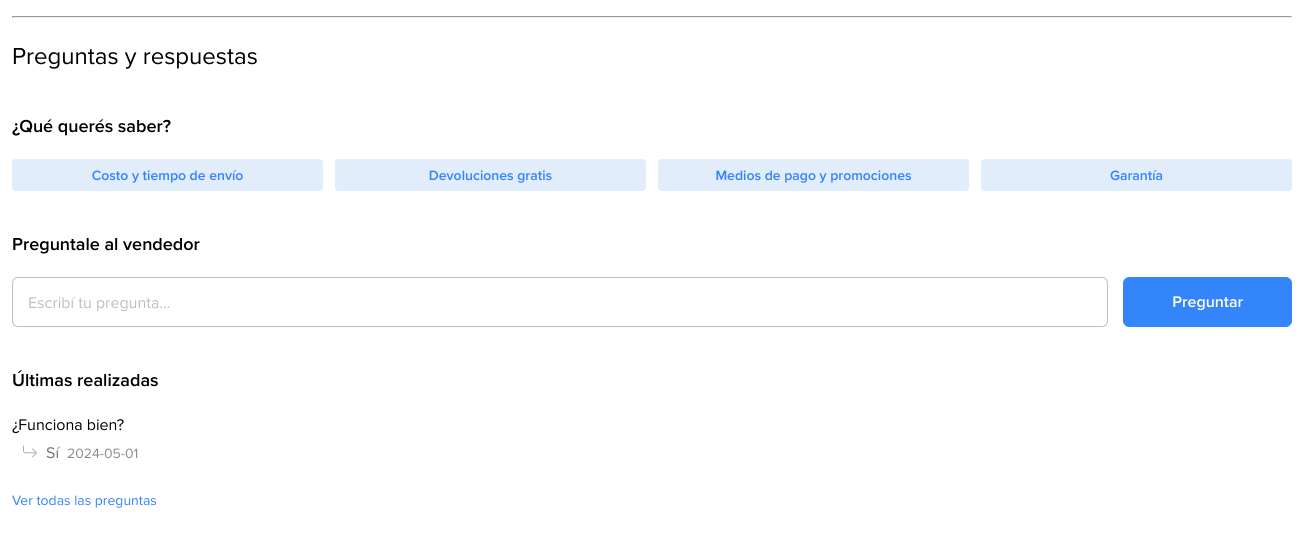
QuestionsAndAnswers › muestra error si input vacío
What coordinates should you click on to do the following:
click the button "Preguntar"
I would click on:
 (1208, 302)
Its box is [1123,277,1292,327].
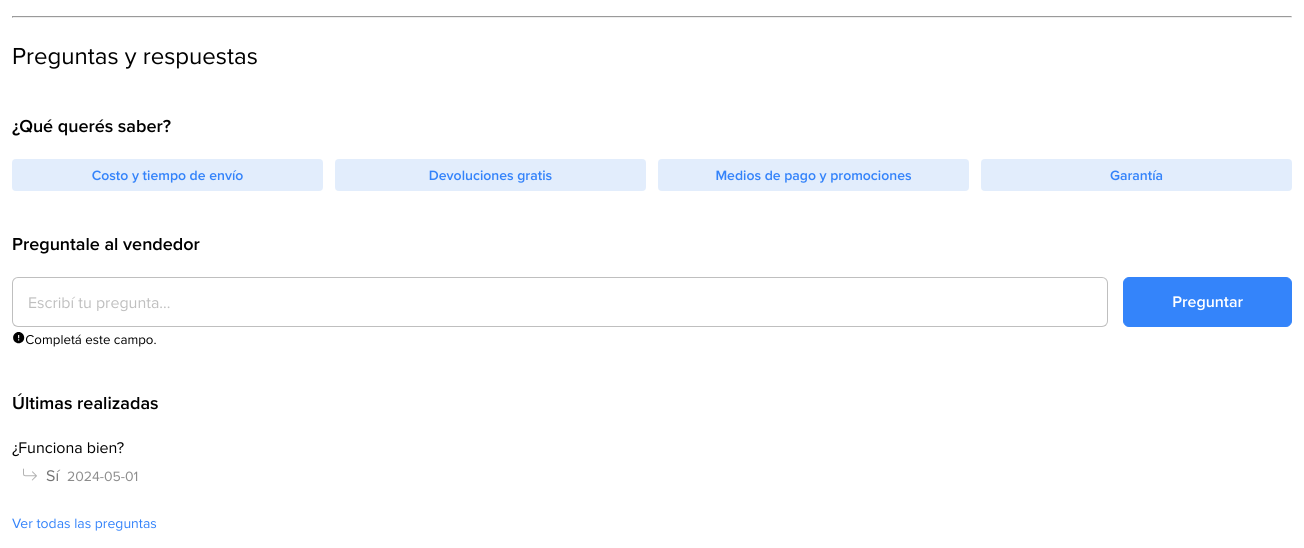
Check: the text "Completá este campo." is shown, box [12,330,156,349]
